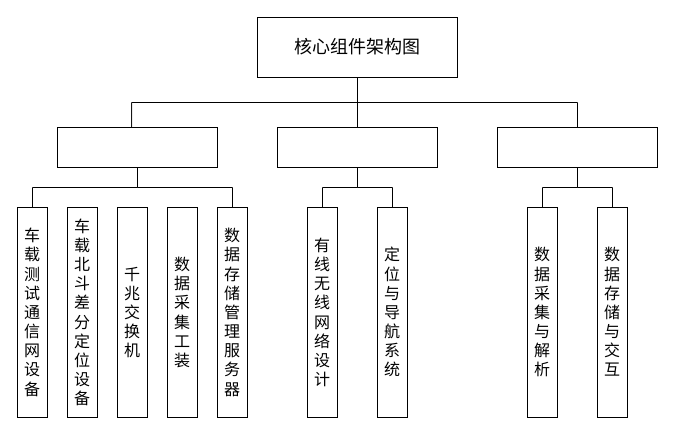
This 675x435 diagram has some shape labels left out. The box of each missing label's shape, as (x1, y1, x2, y2) in pixels:
数据管理与处理架构: (496, 126, 658, 168)
核心设施与设备: (56, 126, 218, 168)
网络与通信架构: (276, 126, 438, 168)
